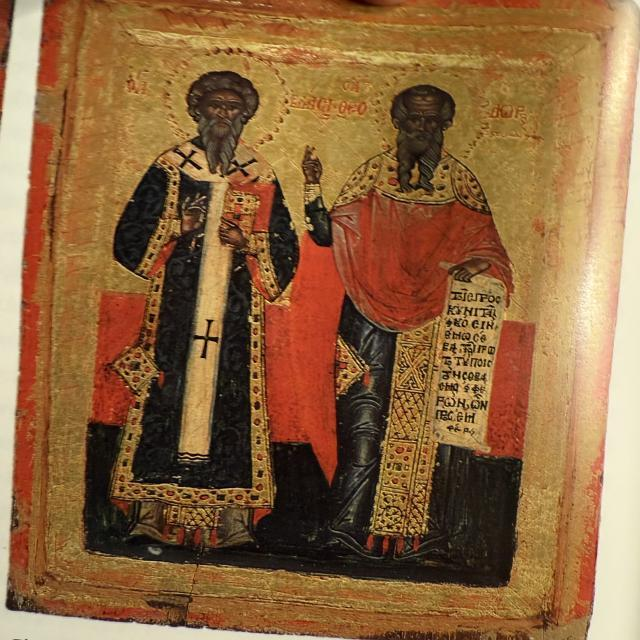aura: (355, 61, 491, 163), (161, 46, 289, 154)
book: (223, 178, 277, 240)
saint: (315, 50, 515, 574), (100, 44, 300, 547)
scroll: (431, 257, 497, 459)
